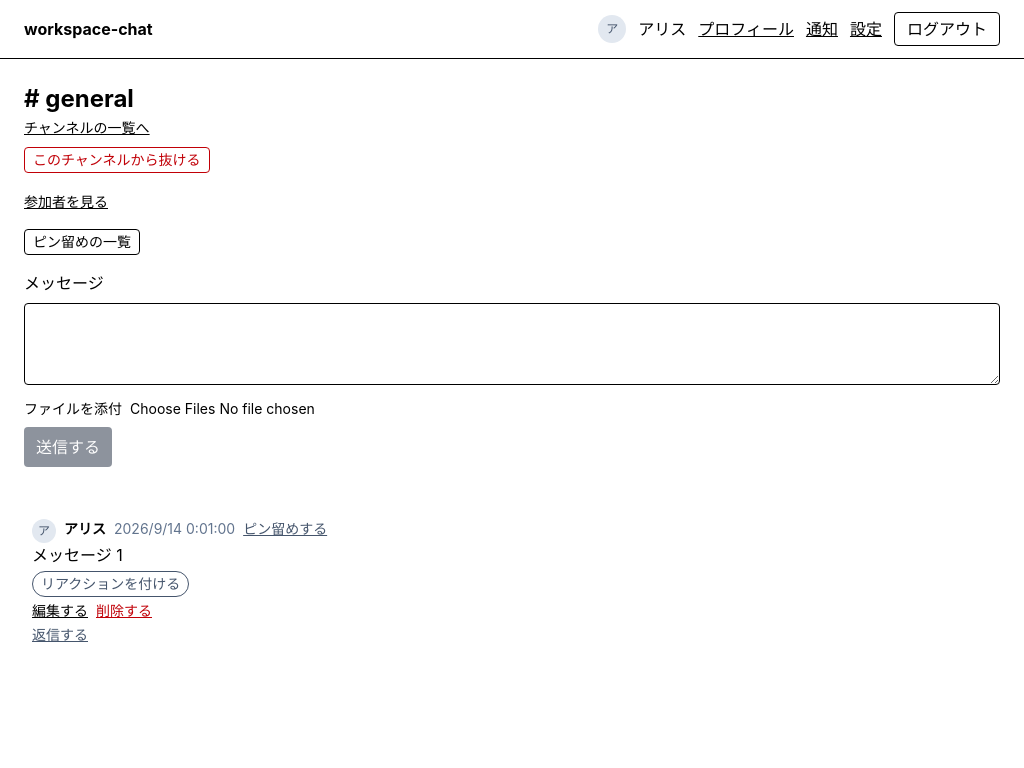
Test: 編集（F-13） › 編集が not_message_author で断られたら理由を出し、入力を残す
This screenshot has width=1024, height=768.
Click the button "編集する" at coordinates (60, 611), box [32,601,88,621]
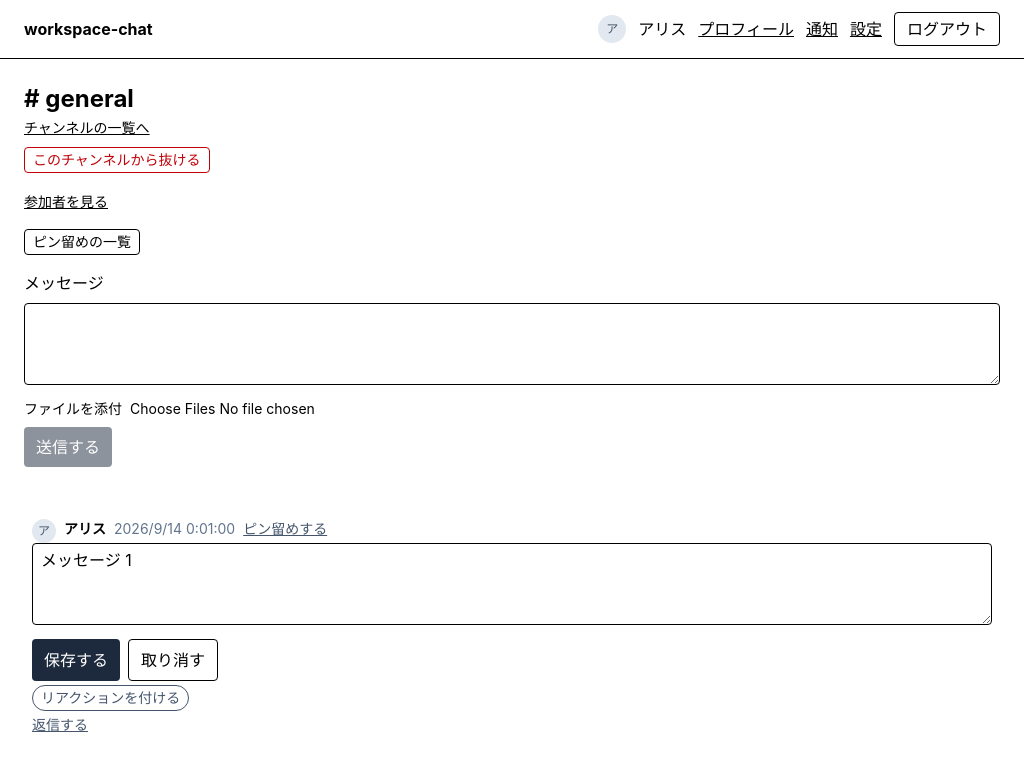
Replace the text in the dropdown named "メッセージを編集" with "直したい" at coordinates (512, 584), box [32,543,992,625]
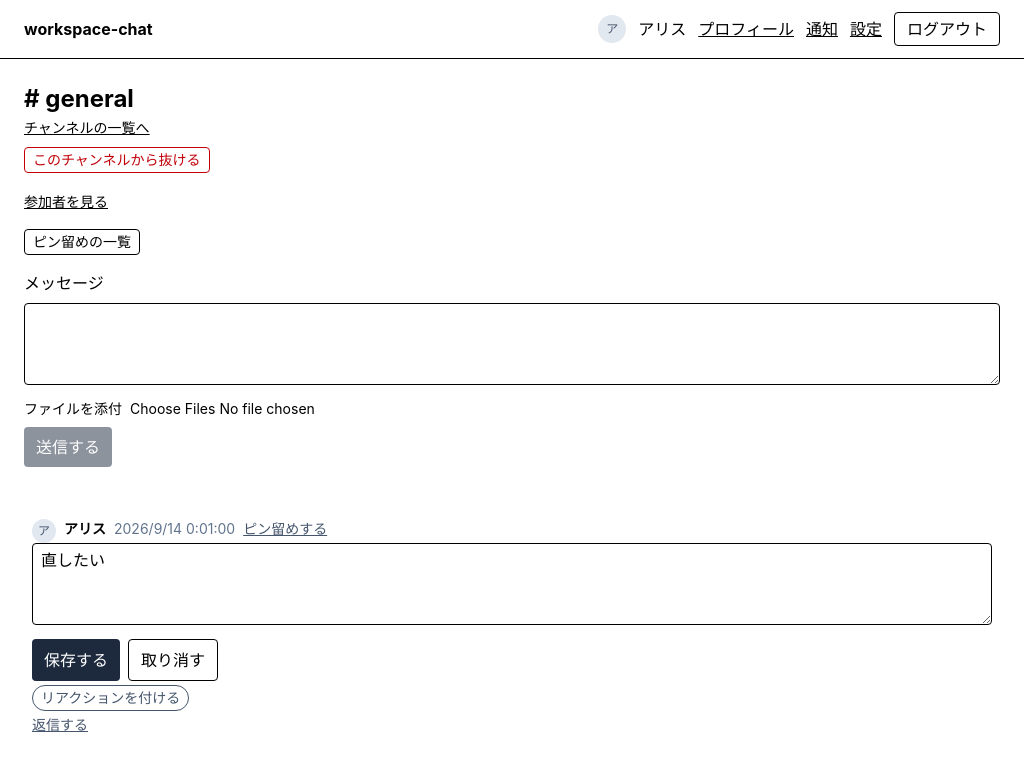
Click the button "保存する" at coordinates (76, 660), box [32,639,120,681]
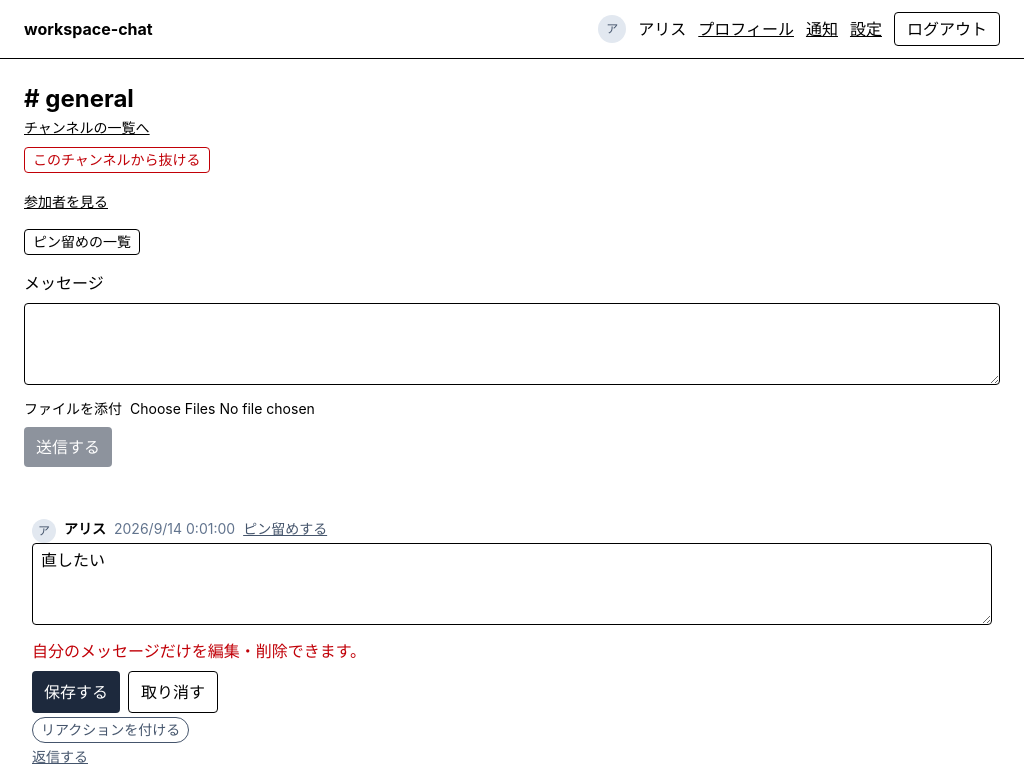
Now the message "自分のメッセージだけを編集・削除できます。" is shown, box [32,641,366,661]
